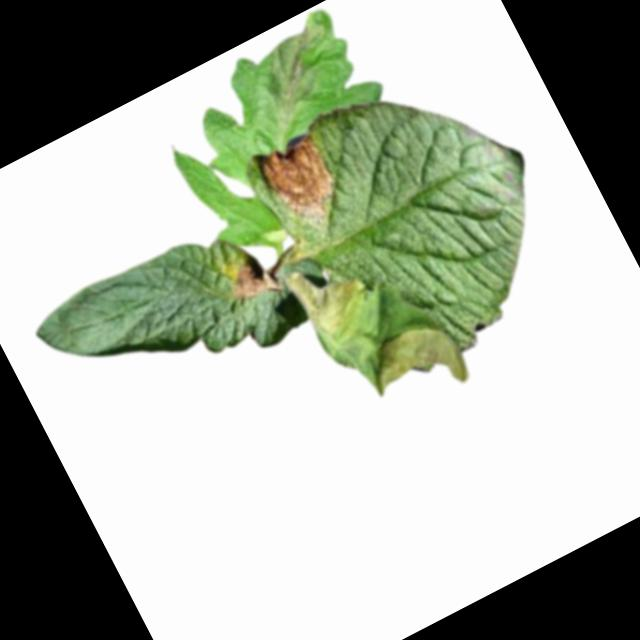Late_blight: (245, 8, 357, 125), (361, 309, 475, 418), (249, 128, 349, 239), (282, 245, 381, 352), (222, 251, 284, 311)
